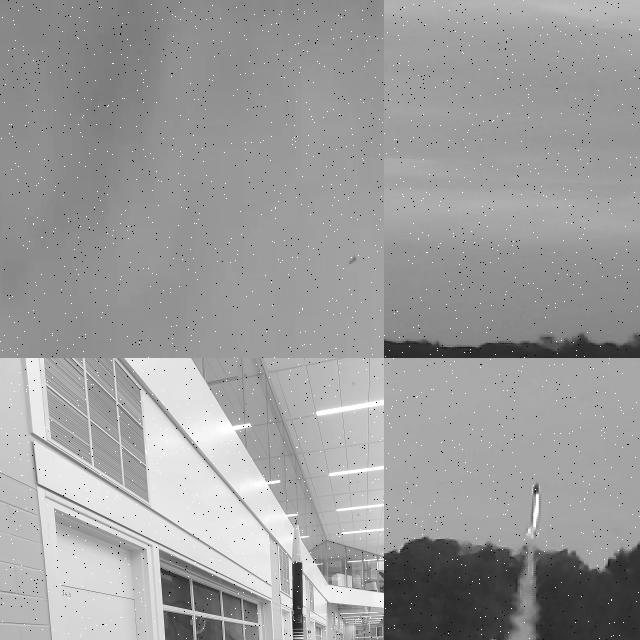Rocket: (292, 520, 304, 640), (524, 480, 544, 540), (349, 255, 356, 265)
